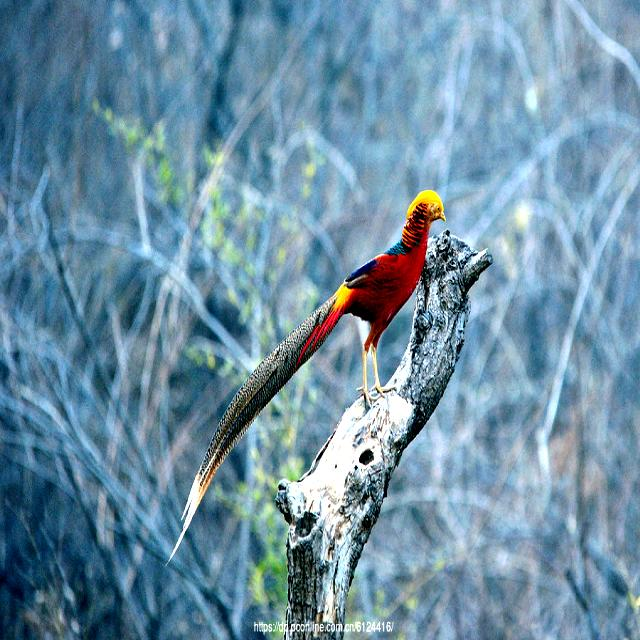Chrysolophus pictus feather: (192, 289, 339, 509)
